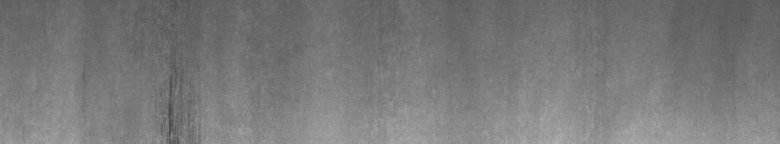ka: (158, 65, 201, 136)
